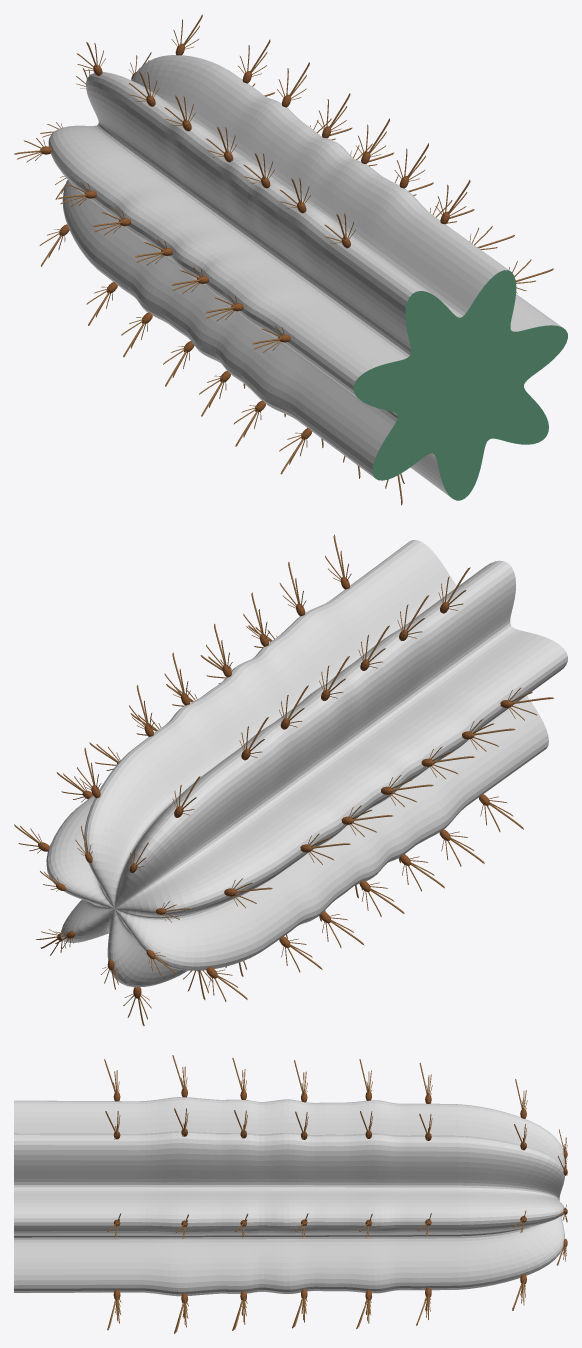
File: frame-130.glb
The picture shows the model from 3 angles, top to bottom: view 1: azimuth 30°, elevation 25°; view 2: azimuth 150°, elevation 25°; view 3: azimuth 270°, elevation 25°; orthographic projection. The views are drawn at different scales.
Visible parts, largest first — view 1: WACHUMA_Pachanoi_Frame_130; view 2: WACHUMA_Pachanoi_Frame_130; view 3: WACHUMA_Pachanoi_Frame_130.
Part boxes in pixels (left/top/right/bottom): WACHUMA_Pachanoi_Frame_130: left=14, top=14, right=567, bottom=505; WACHUMA_Pachanoi_Frame_130: left=14, top=534, right=567, bottom=1025; WACHUMA_Pachanoi_Frame_130: left=14, top=1055, right=567, bottom=1333.
Bounding box in the file's own units: 1.24 × 1.21 × 2.4.
